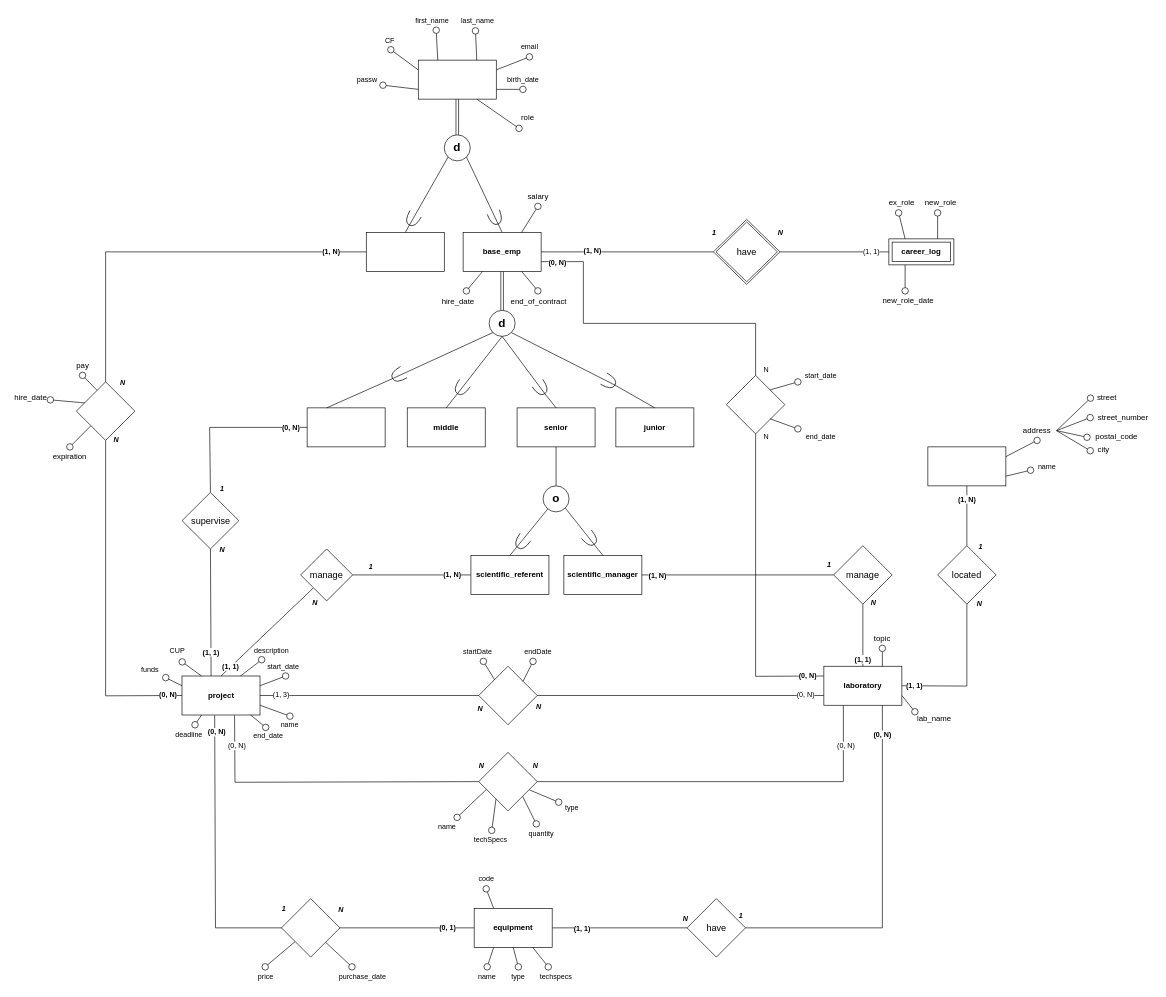
Image size: 1166x997. Some labels were removed from this diagram. Here are the shapes that lost their labels. From the top down, the box of each, then its label:
(418, 59, 496, 99): employee
(366, 232, 444, 271): project_salaried
(76, 381, 135, 440): works_on
(726, 375, 785, 434): works_at
(306, 407, 385, 447): manager
(927, 446, 1006, 486): site
(478, 666, 537, 725): take_part
(478, 752, 537, 811): equipment_request
(281, 898, 340, 957): purchase
